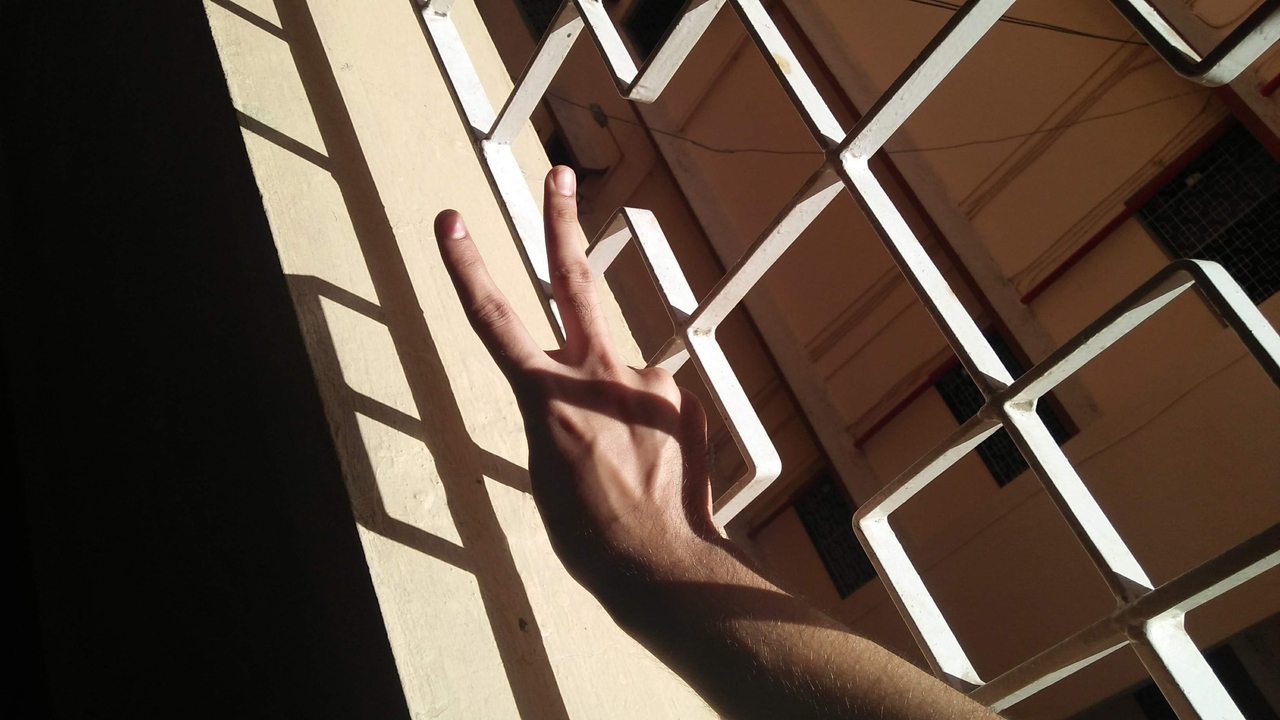fingertip: (422, 196, 476, 248), (534, 154, 588, 202)
